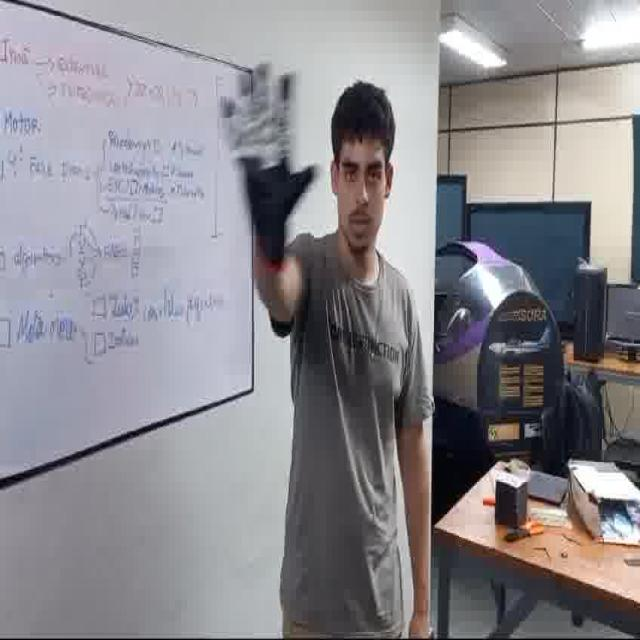Gloves: (221, 57, 322, 264)
